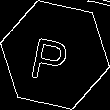P_N: (32, 27, 78, 83)
